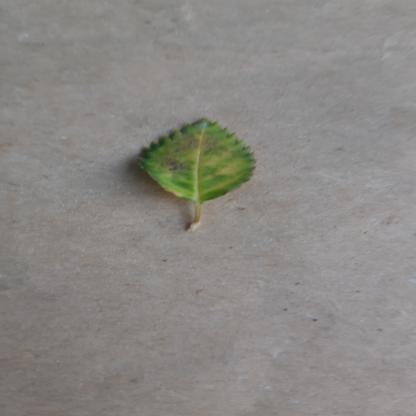black-spot: (136, 122, 265, 205)
